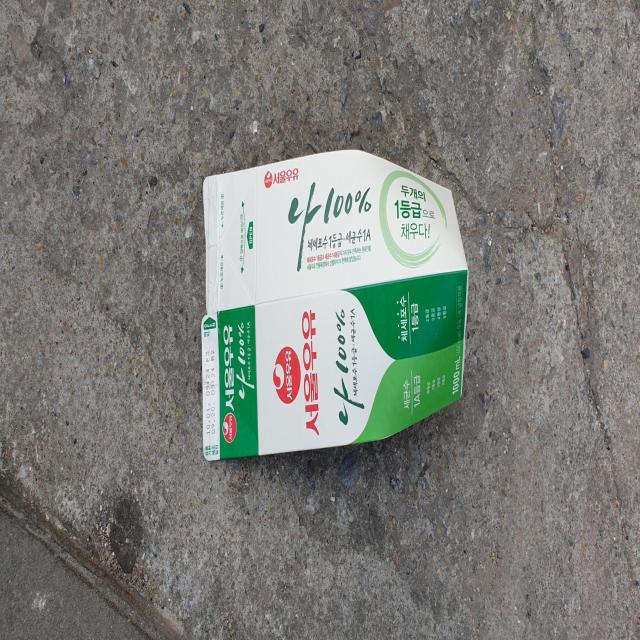paperpack: (201, 149, 469, 460)
